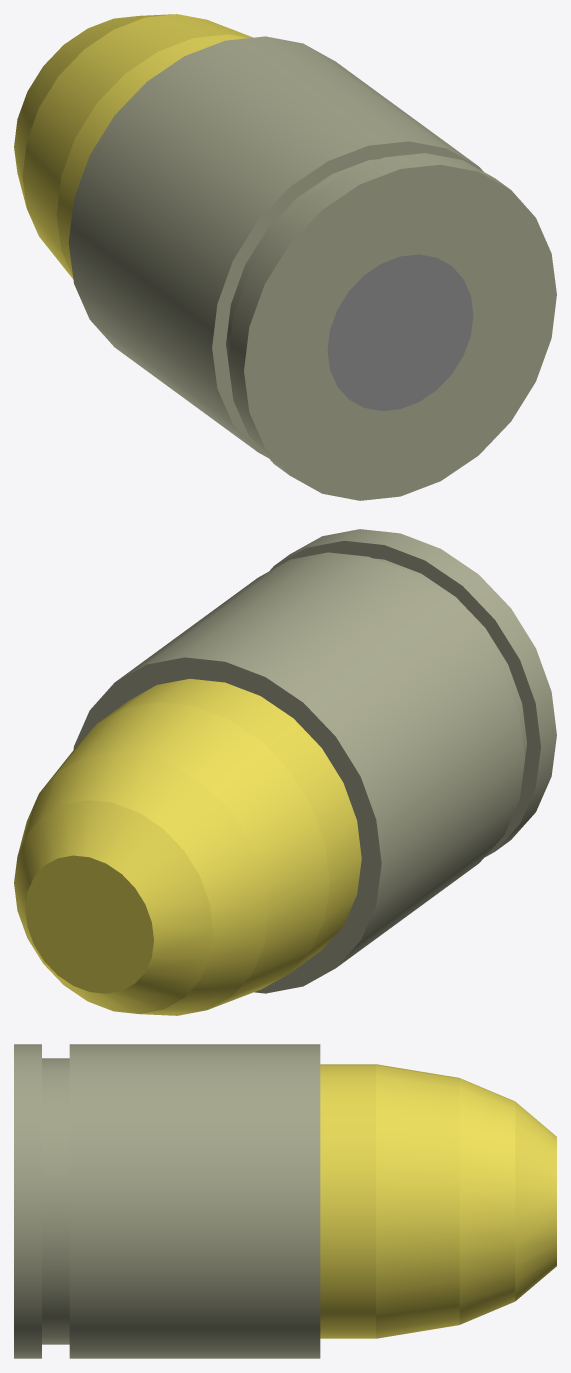
The model's file is ammo_machinegunLauncher.glb.
3 renders of one model, top to bottom at view 1: azimuth 30°, elevation 25°; view 2: azimuth 150°, elevation 25°; view 3: azimuth 270°, elevation 25°, orthographic. The views are drawn at different scales.
Parts seen in each view (by area): view 1: ammo_machinegunLauncher.001; view 2: ammo_machinegunLauncher.001; view 3: ammo_machinegunLauncher.001.
Part boxes in pixels (box(x1,y1,x2,y2)): ammo_machinegunLauncher.001: box(14, 14, 556, 500); ammo_machinegunLauncher.001: box(14, 529, 556, 1015); ammo_machinegunLauncher.001: box(14, 1044, 556, 1358).
Bounding box in the file's own units: 0.2041 × 0.2041 × 0.351.
